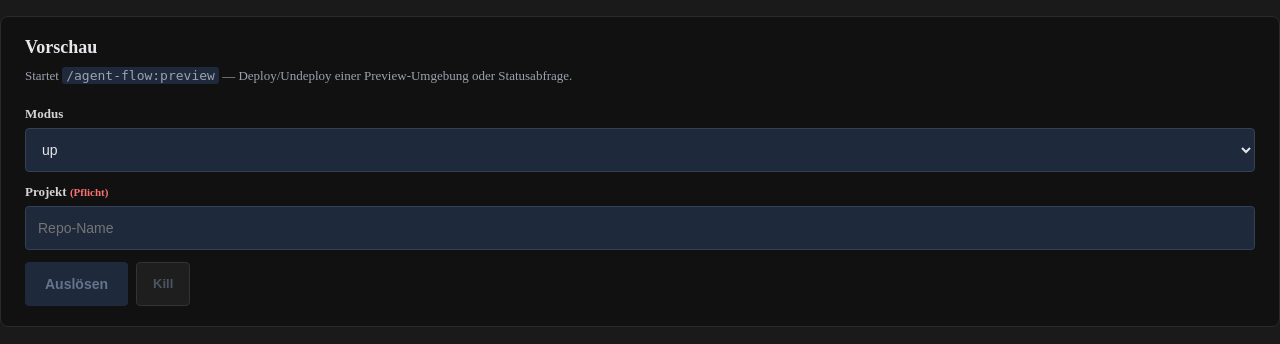
Scenario: cockpit-declutter AC7 — PreviewSection rendert „Vorschau"-Bereich › Modus "available" zeigt KEIN Projektfeld, "Auslösen" sofort aktivierbar
Select "available" in the dropdown with test id "preview-mode-select" at (640, 150), box [25,128,1255,172]
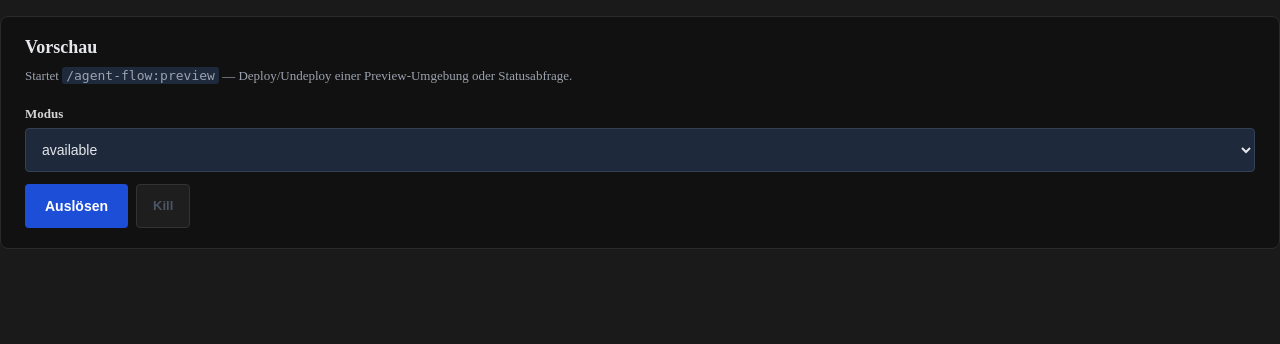
Result: the button with test id "preview-fire-btn" is enabled at [25,184,128,228]
